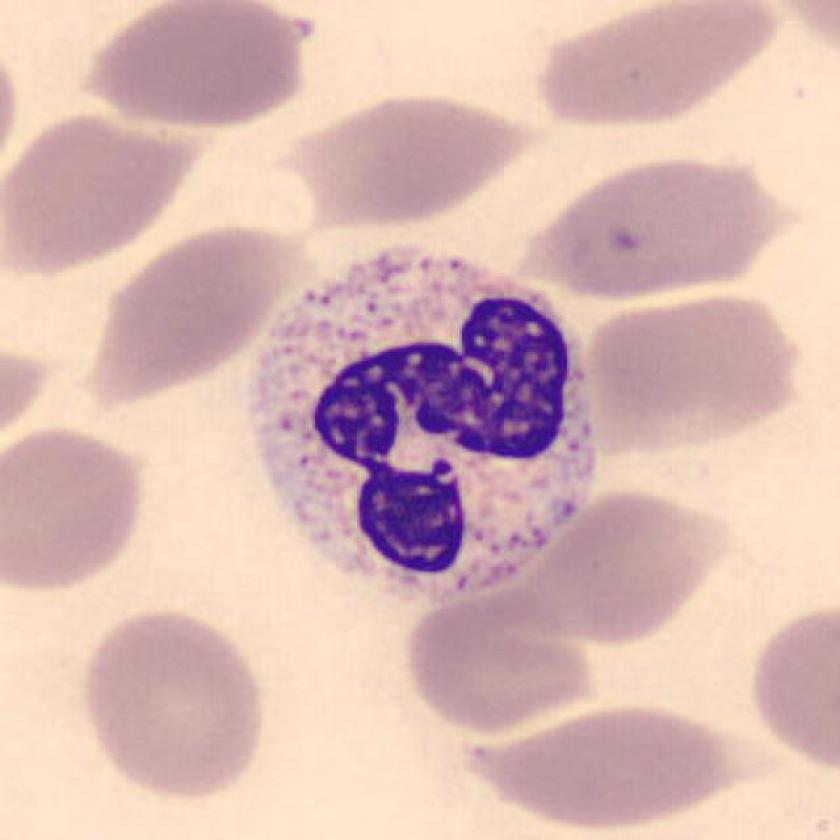neutrophil: (251, 249, 599, 596)
